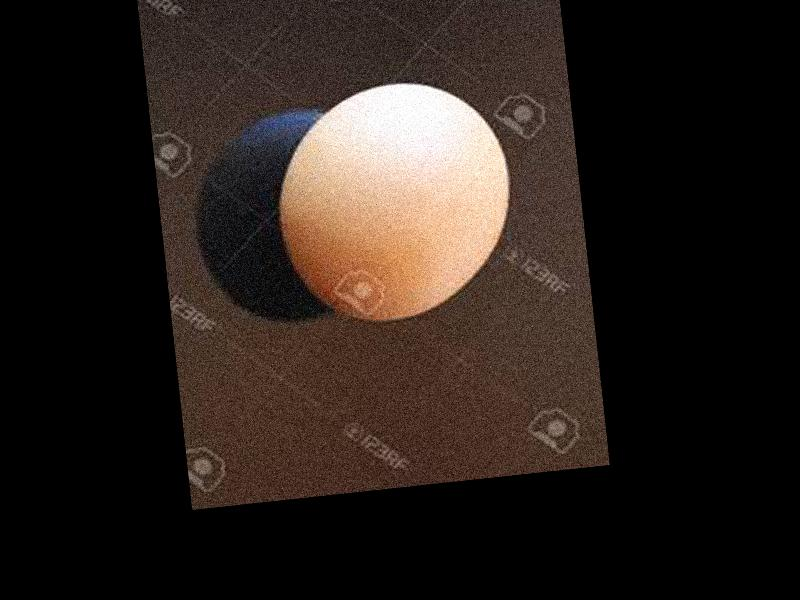Eggs: (265, 71, 522, 329)
